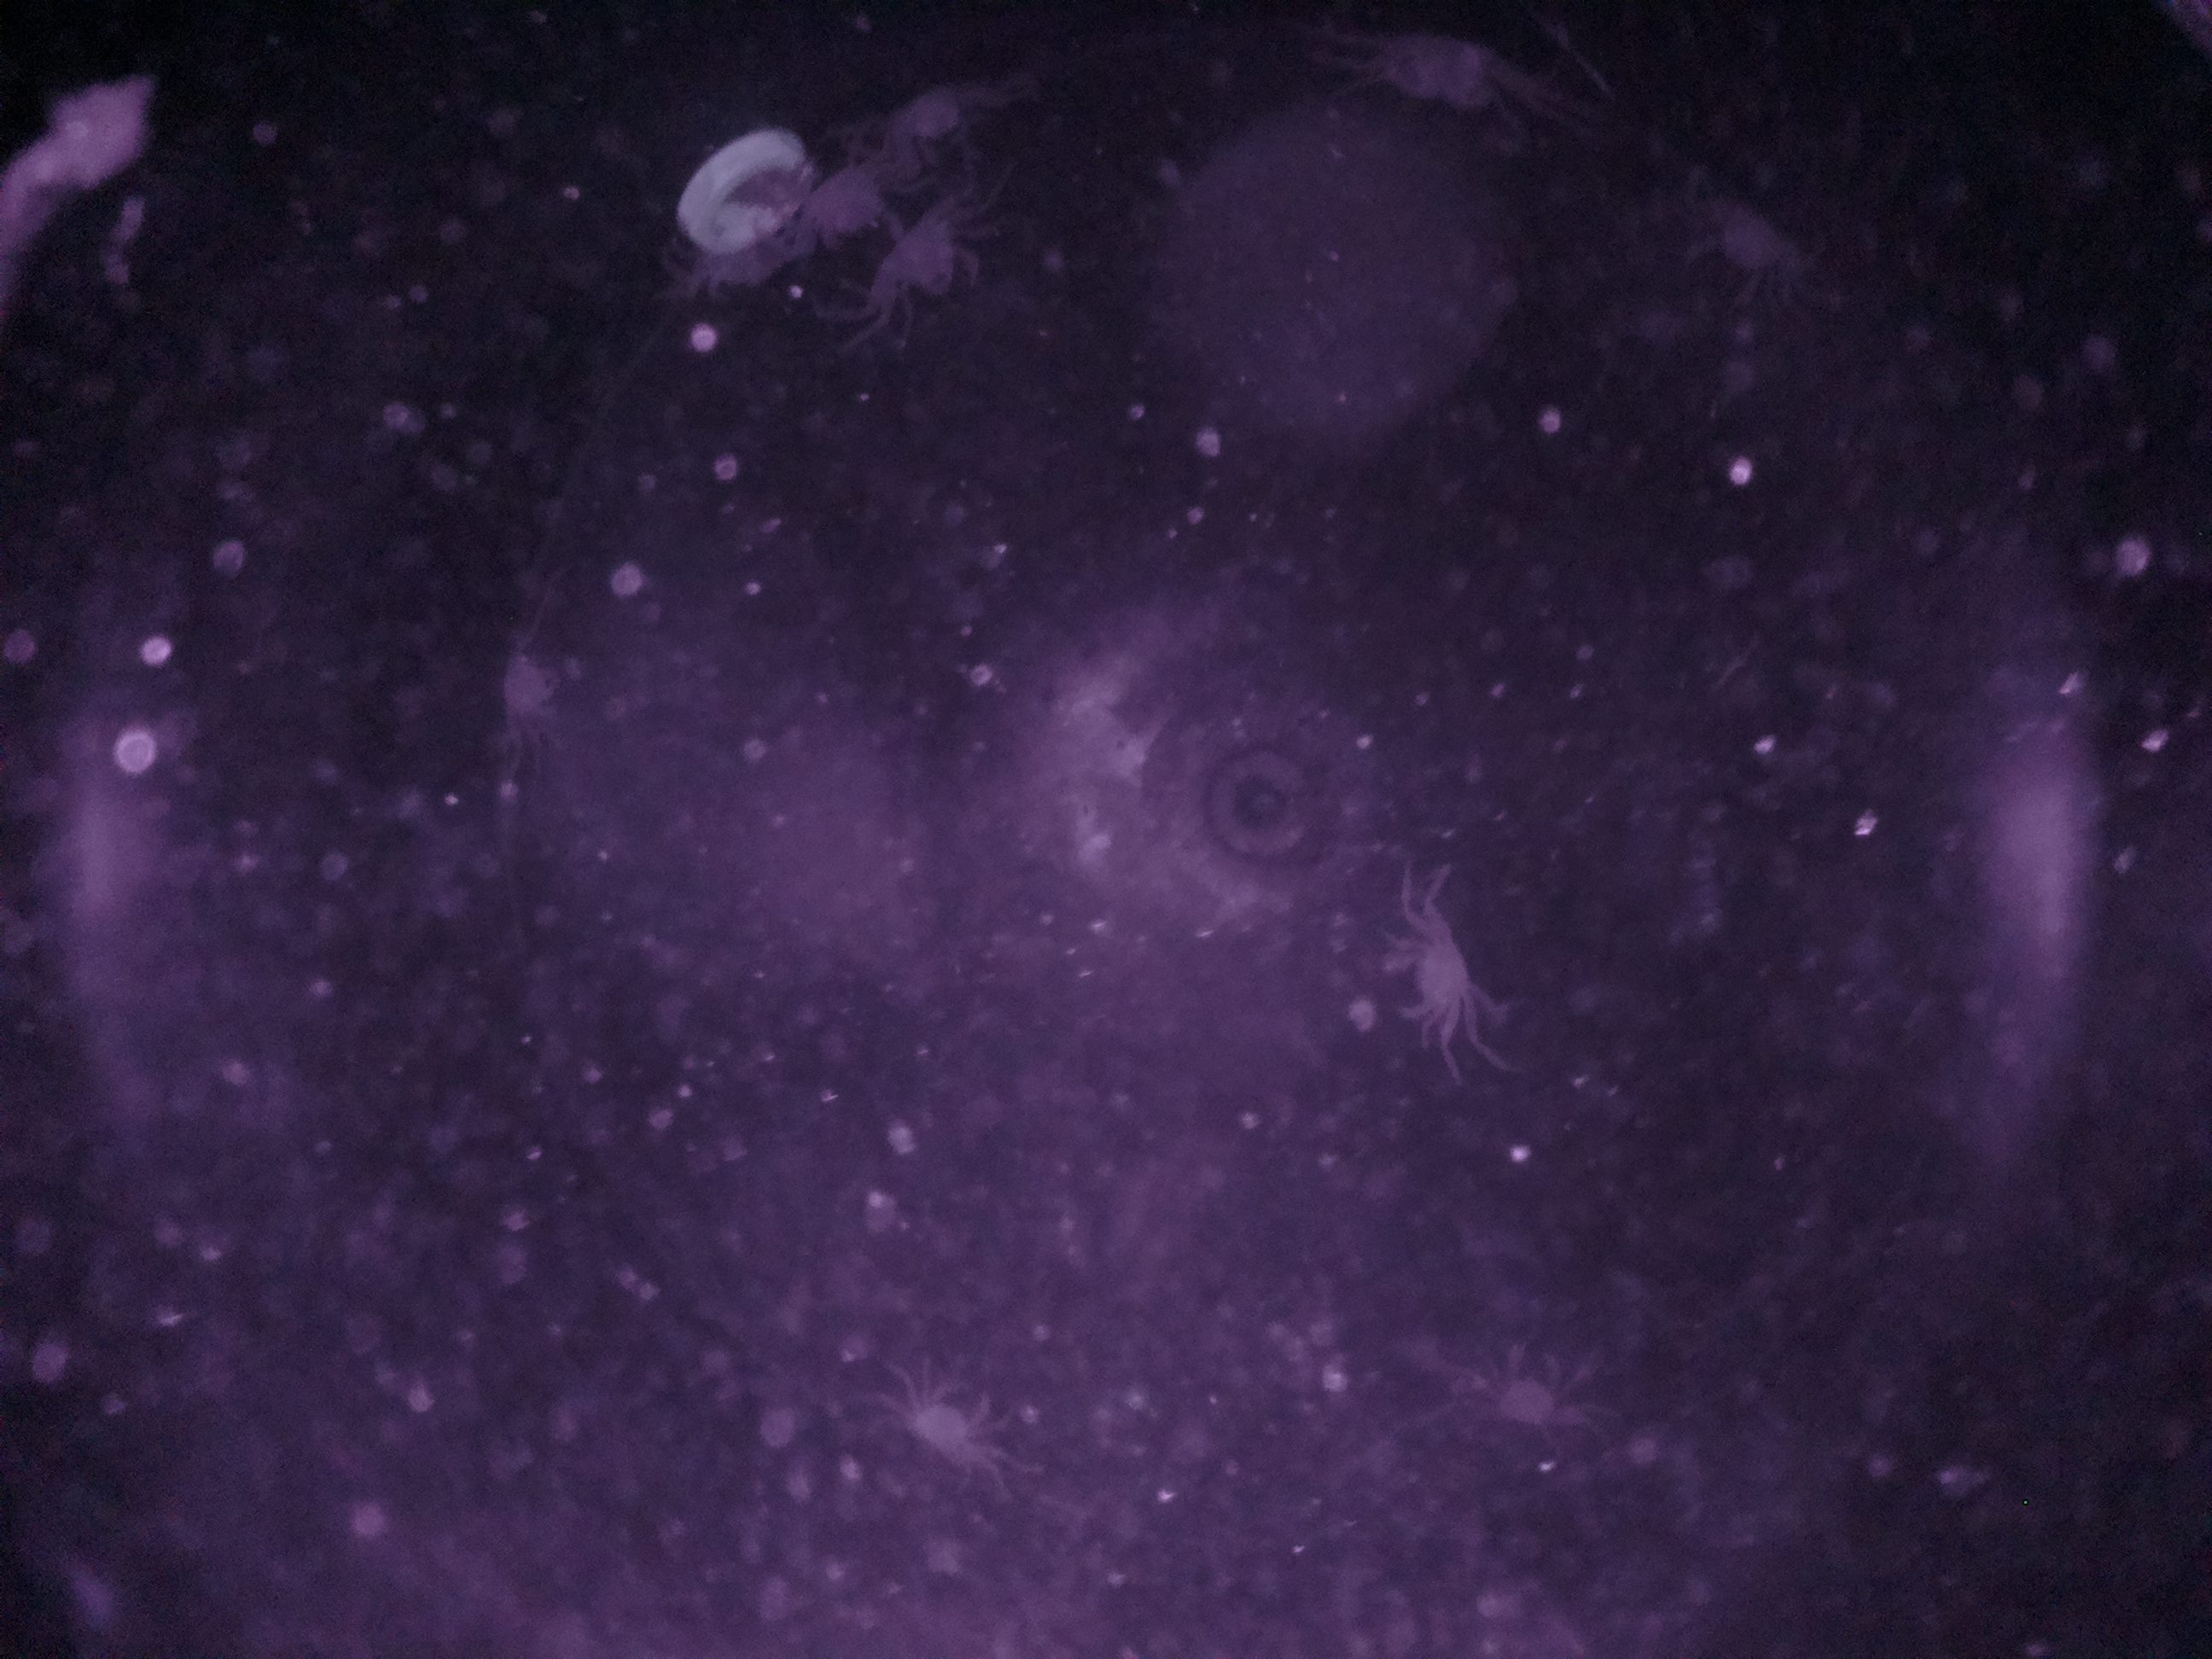Crab: (852, 186, 1007, 345), (1371, 899, 1505, 1042)
